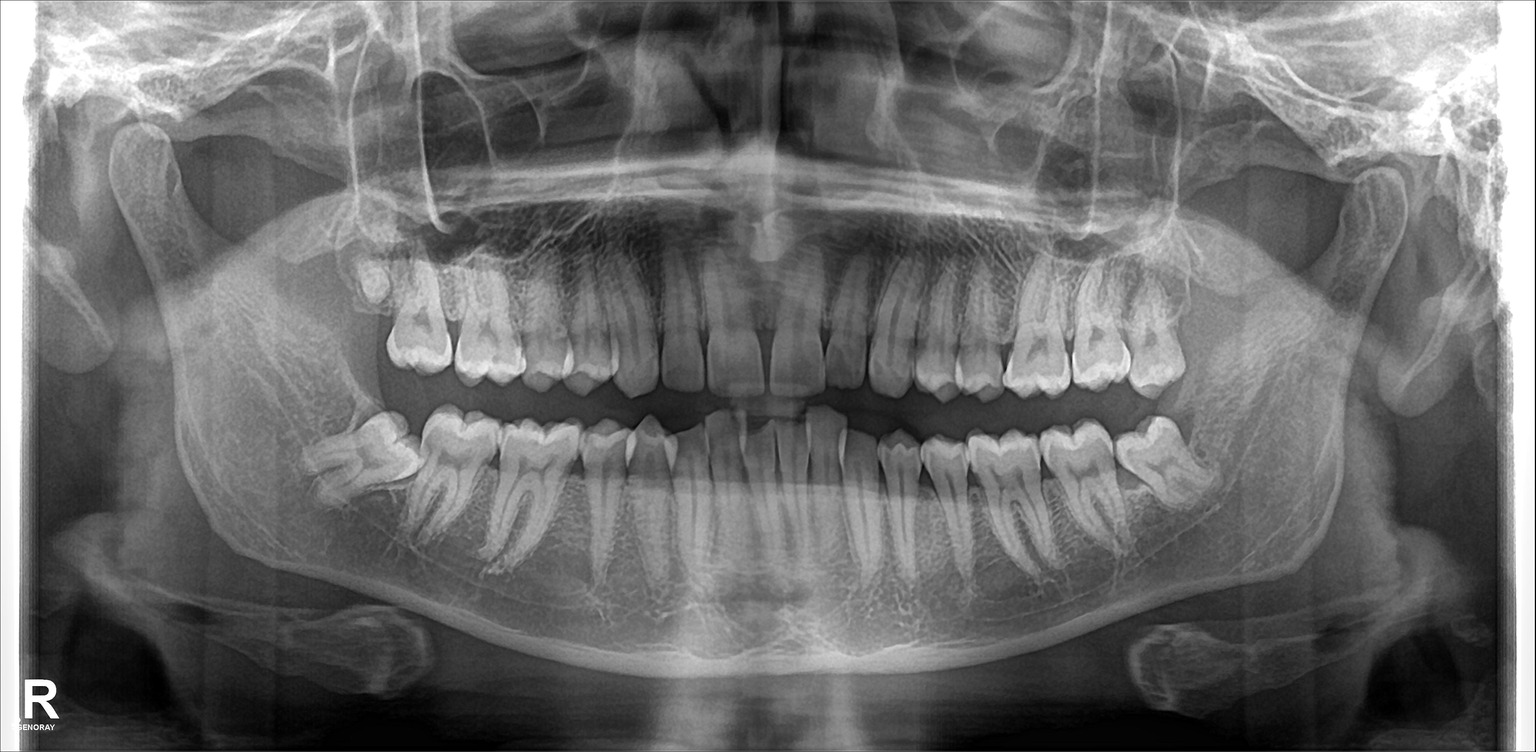Impacted Third Molar: (283, 418, 419, 498), (1117, 419, 1213, 503), (337, 253, 396, 320)
